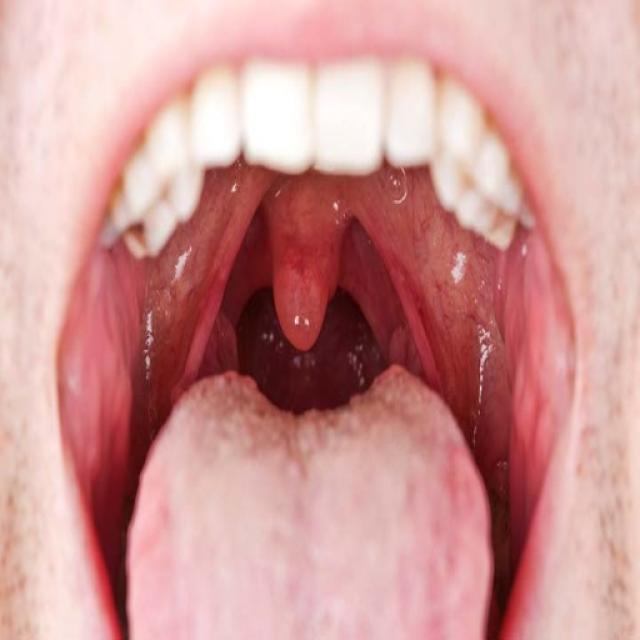processing_area: (60, 169, 581, 639)
